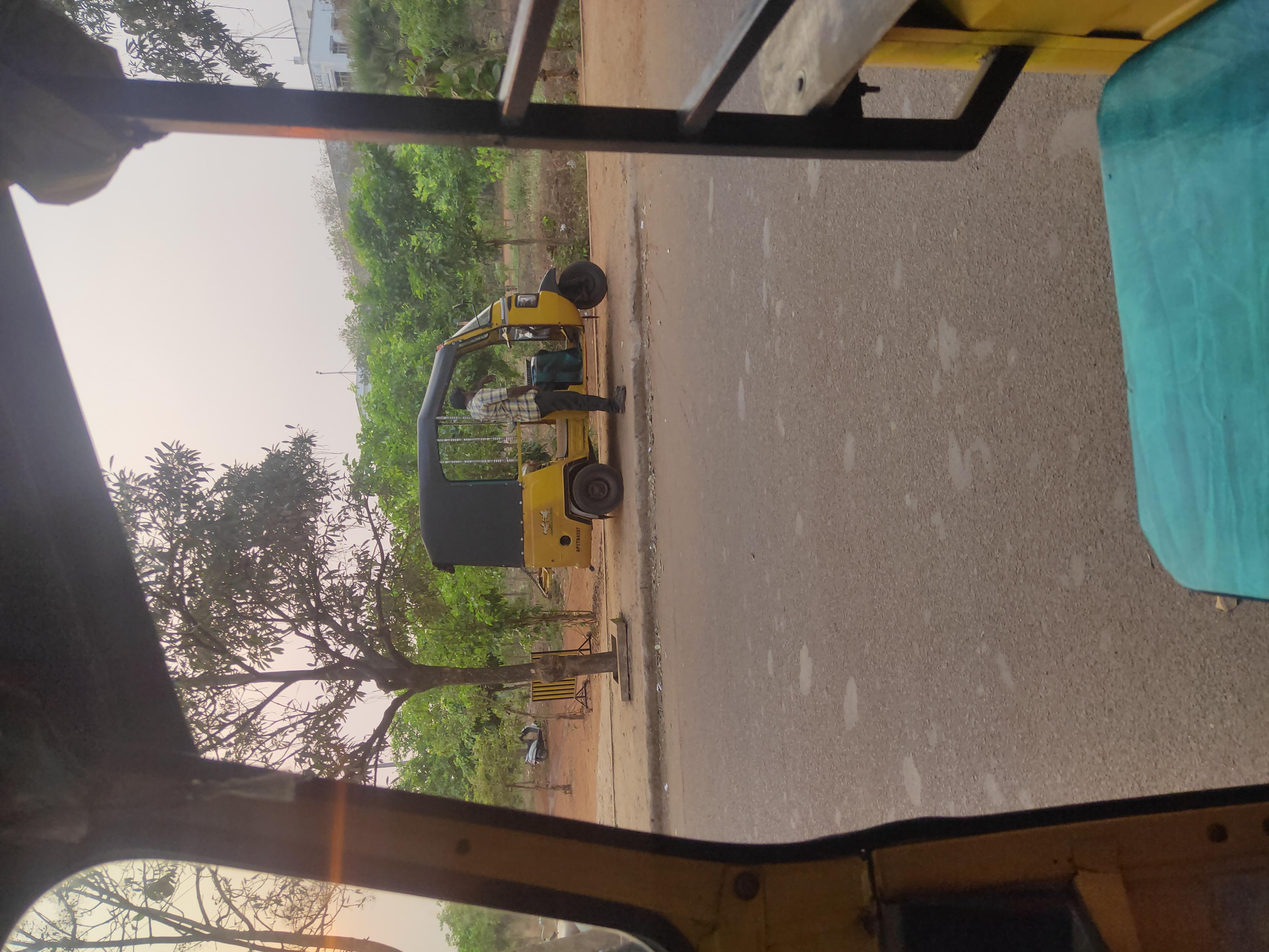Auto: (480, 293, 935, 474)
